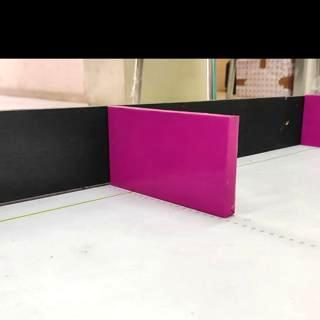xparking: (111, 116, 235, 206)
